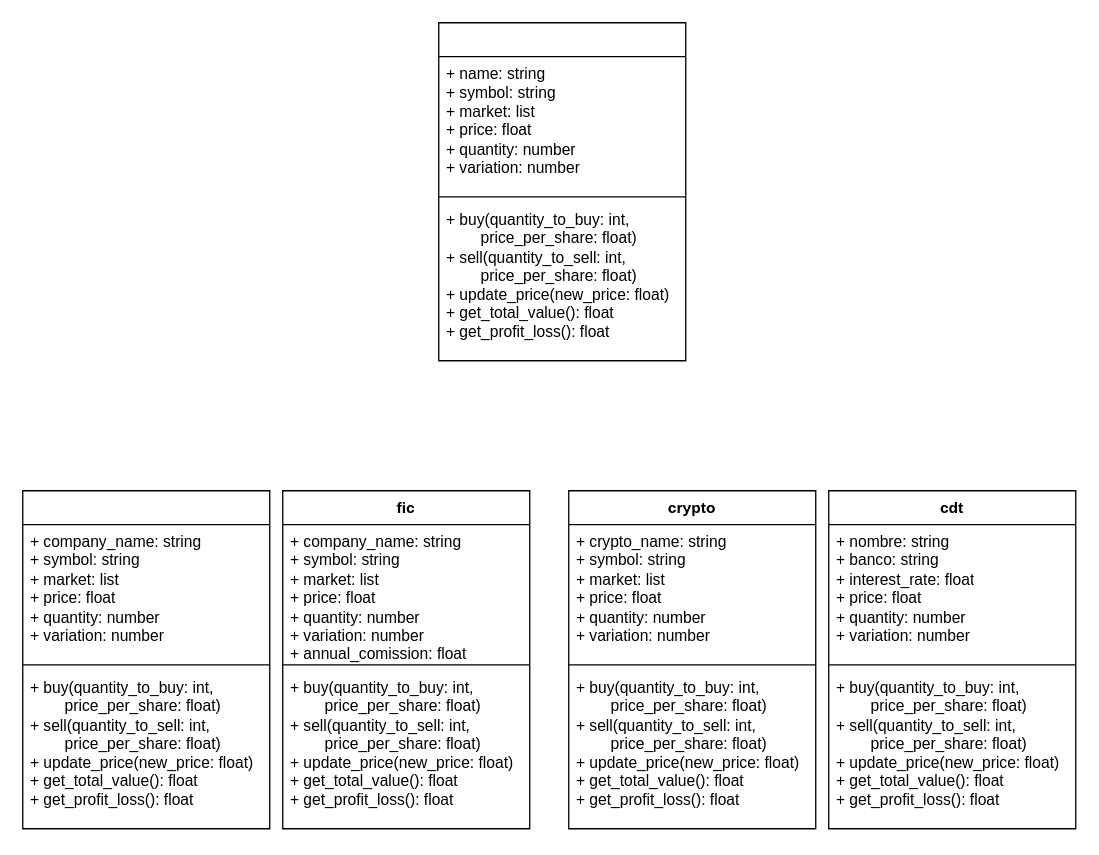
Some shapes in this 1099 by 855 pixel diagram are drawn without their labels. The box of each missing label's shape, as (x1, y1, x2, y2) in pixels:
asset: (437, 21, 686, 361)
stock: (21, 489, 270, 829)
